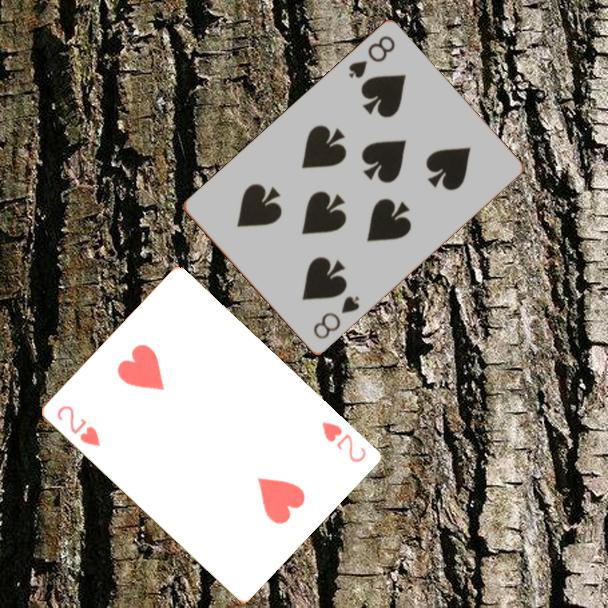h02: (318, 418, 369, 466), (53, 402, 103, 450)
s08: (309, 293, 363, 343), (345, 32, 398, 82)
